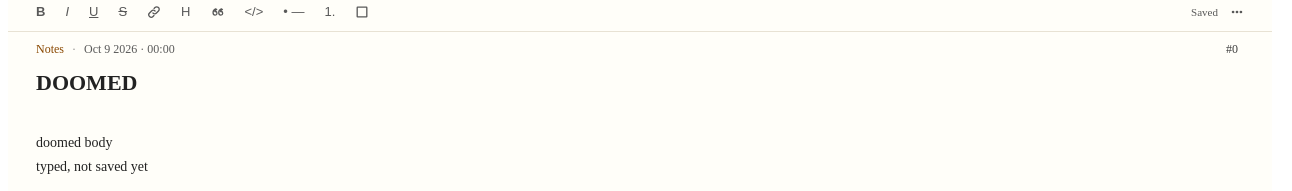
Scenario: deleting the open note with unsaved typing › swaps to the neighbour and sends no save for the deleted note
(page scrolled)
Clear the field with class "editor-body" at (74, 142), box [36,135,148,174]
Wait 10000 ms
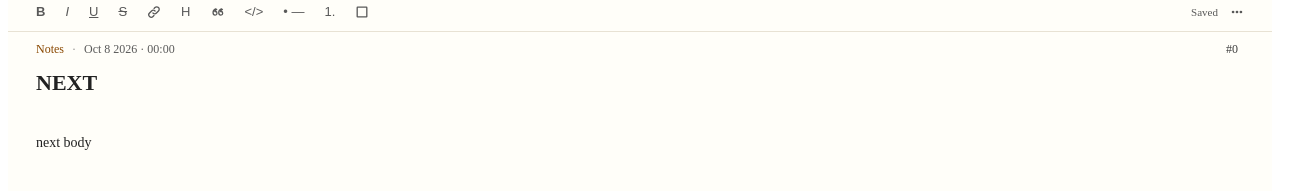
Now the field with class "editor-body" reads "next body", box [36,135,92,150]
